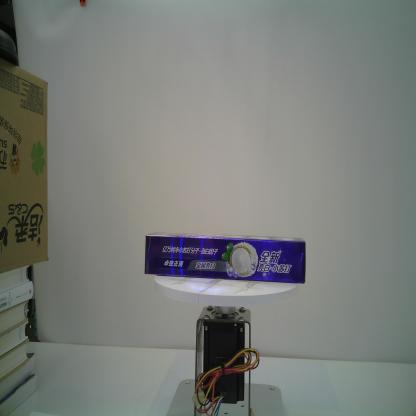Personal Hygiene: (143, 228, 308, 286)
